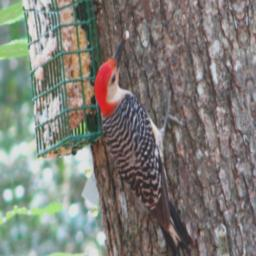Woodpecker: (87, 17, 204, 256)
